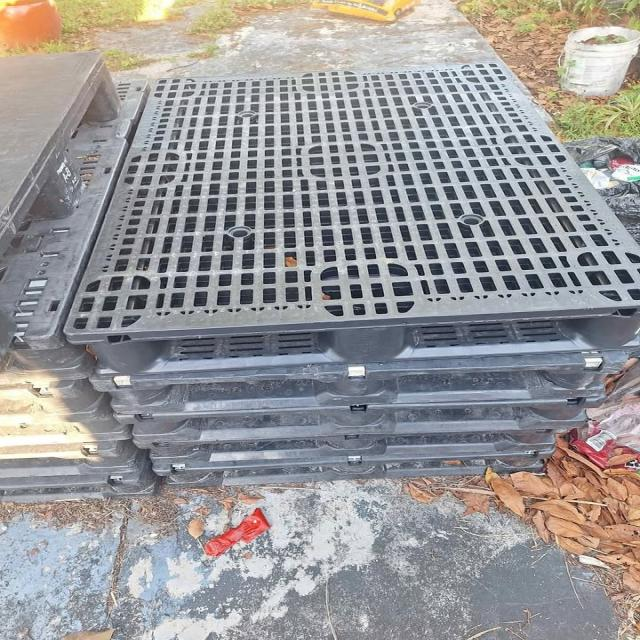non-igps: (59, 58, 640, 379), (0, 76, 157, 390), (83, 344, 633, 421), (108, 386, 611, 446), (0, 48, 125, 270), (130, 420, 580, 468), (149, 443, 561, 490), (0, 446, 170, 506), (0, 389, 138, 451), (0, 389, 136, 451), (0, 435, 153, 481), (0, 372, 110, 428)
